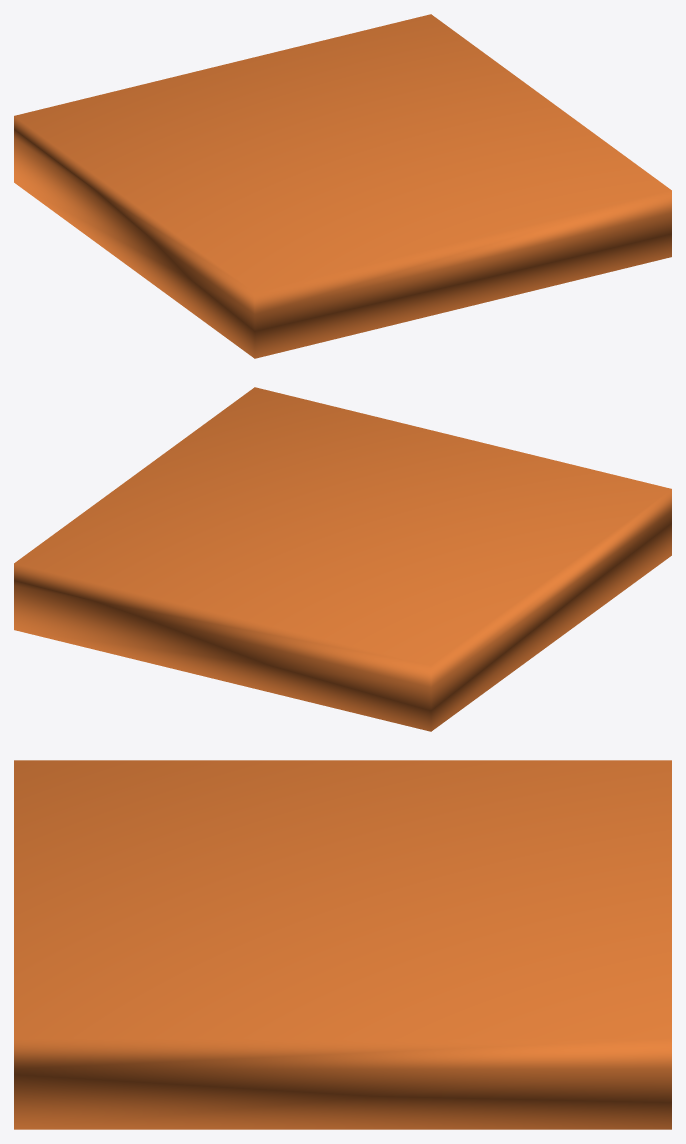
File: PanAbajo.glb
3 renders of one model, top to bottom at view 1: azimuth 30°, elevation 25°; view 2: azimuth 150°, elevation 25°; view 3: azimuth 270°, elevation 25°, orthographic. The views are drawn at different scales.
Parts seen in each view (by area): view 1: Pán_Base; view 2: Pán_Base; view 3: Pán_Base.
Part boxes in pixels (x1,y1,x2,y2): Pán_Base: (14,14,671,358); Pán_Base: (14,387,671,731); Pán_Base: (14,760,671,1129).
Bounding box in the file's own units: 2.17 × 0.4424 × 2.17.
